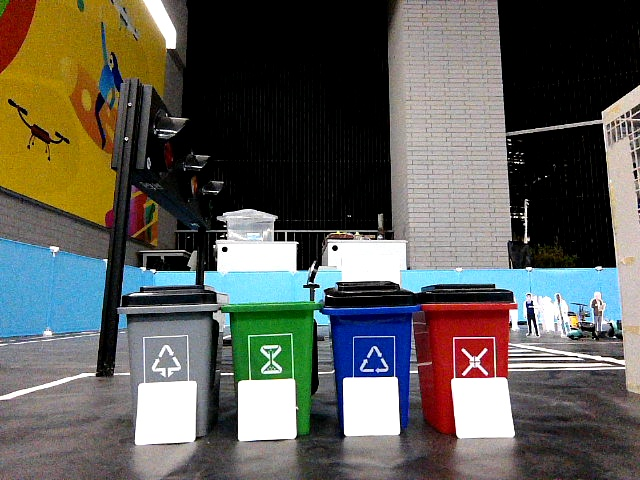blue_close: (329, 280, 406, 371)
green_open: (233, 301, 309, 377)
grey_close: (131, 286, 213, 378)
red_close: (423, 284, 507, 374)
